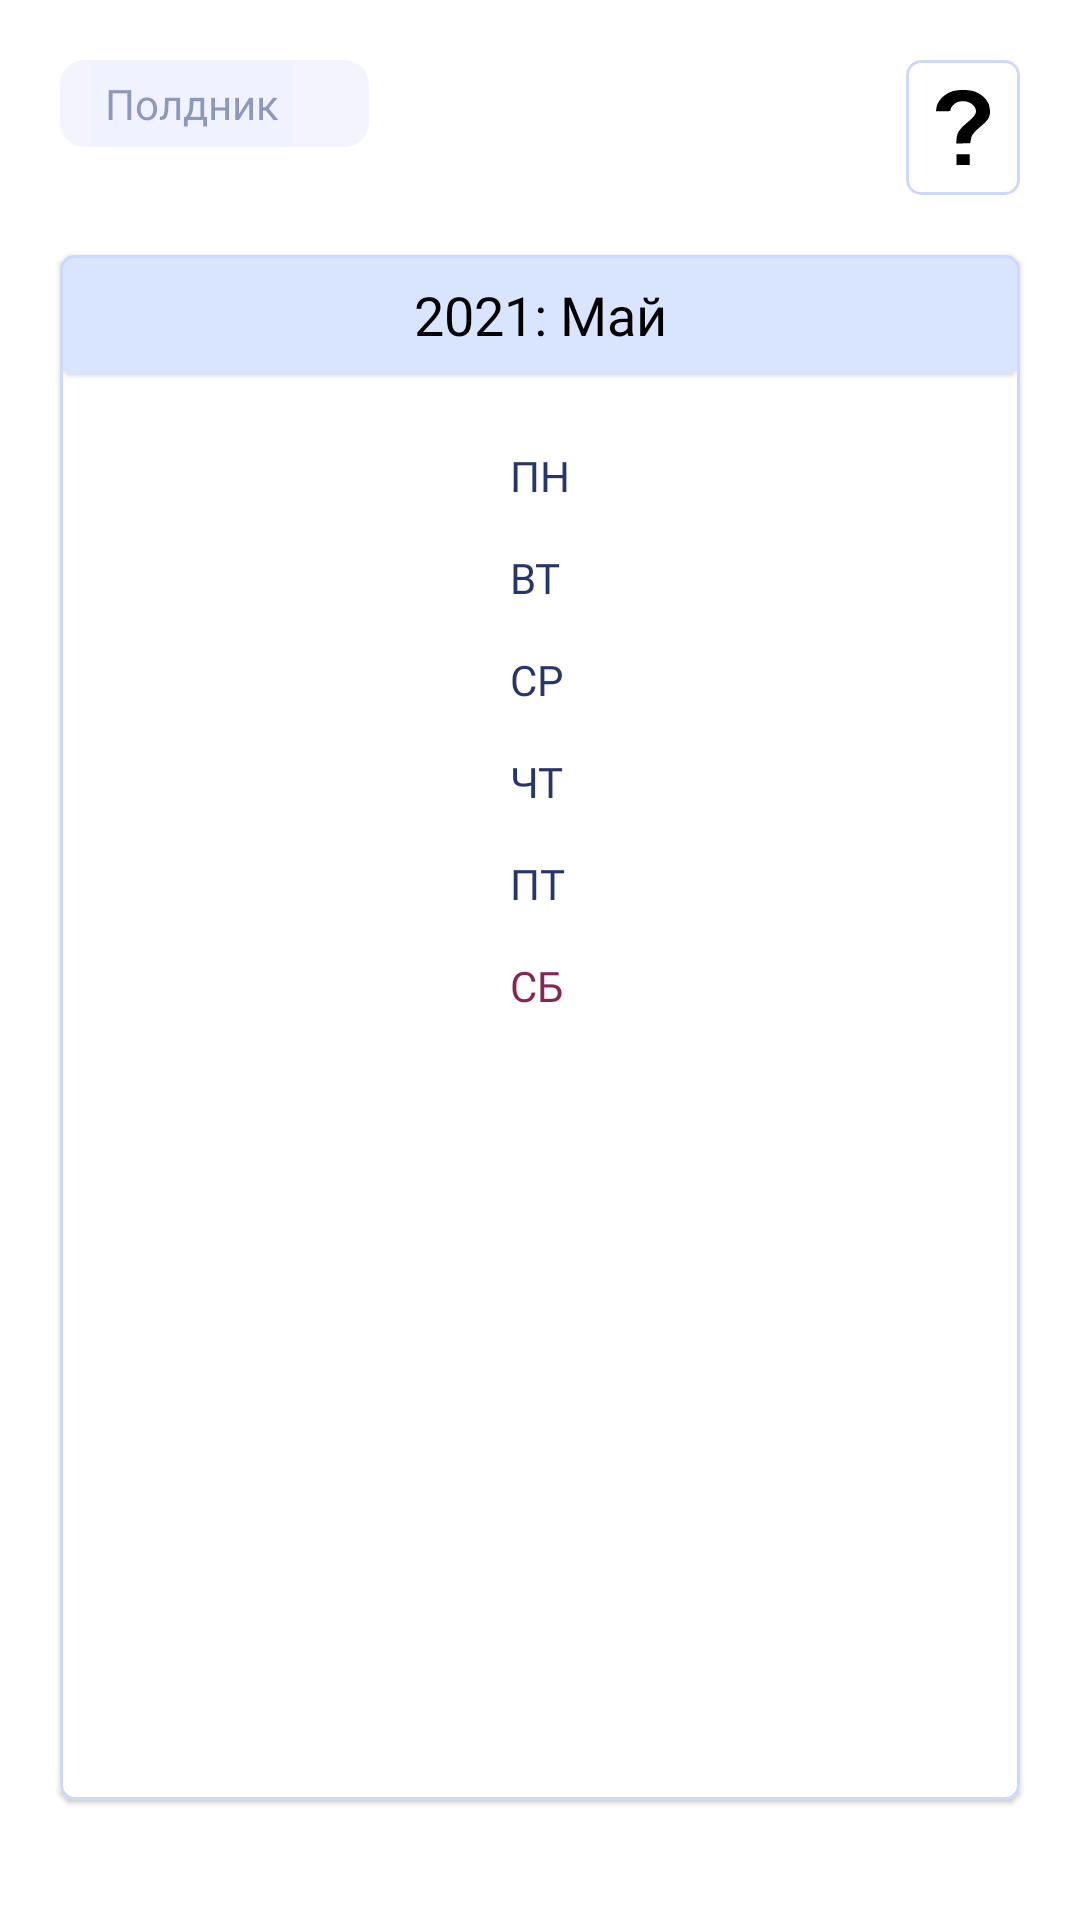

Named icons in this screenshot (1080px×1920px) and their centers, [x,y]:
help: [963,127]
